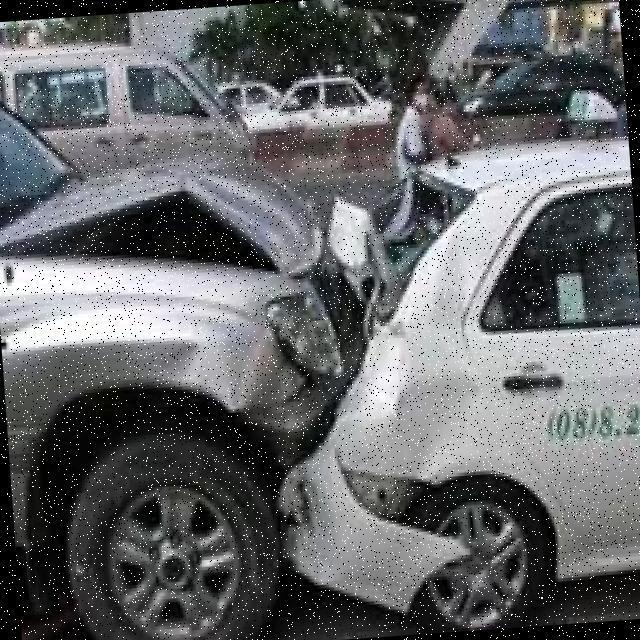accident: (0, 98, 587, 640)
